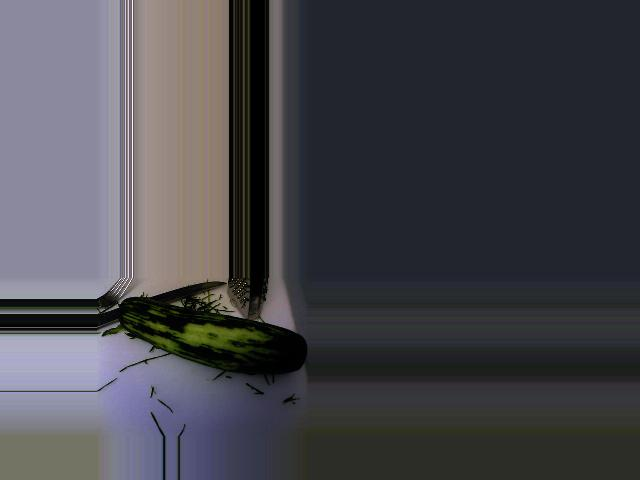cucumber: (117, 296, 306, 375)
